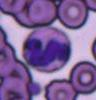N: (23, 26, 72, 72)
